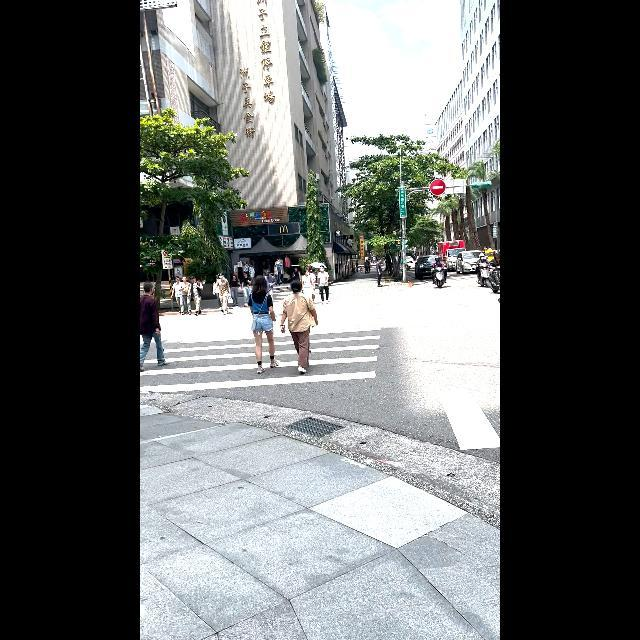sidewalk: (140, 327, 380, 394)
